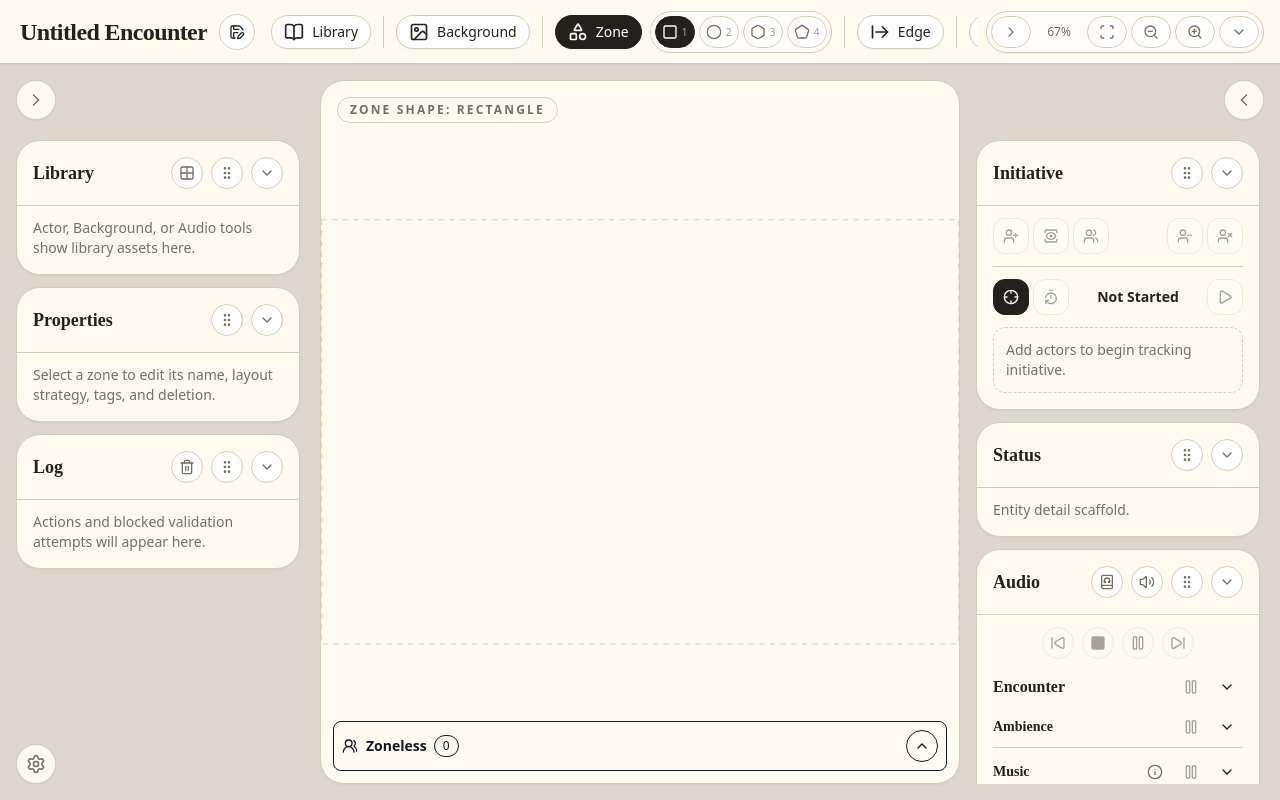
Test: Toolbar motion and navigation › opens the Asset Library modal from the Library toolbar button
Click the button "Library" at [321, 32], box [271,14,371,48]
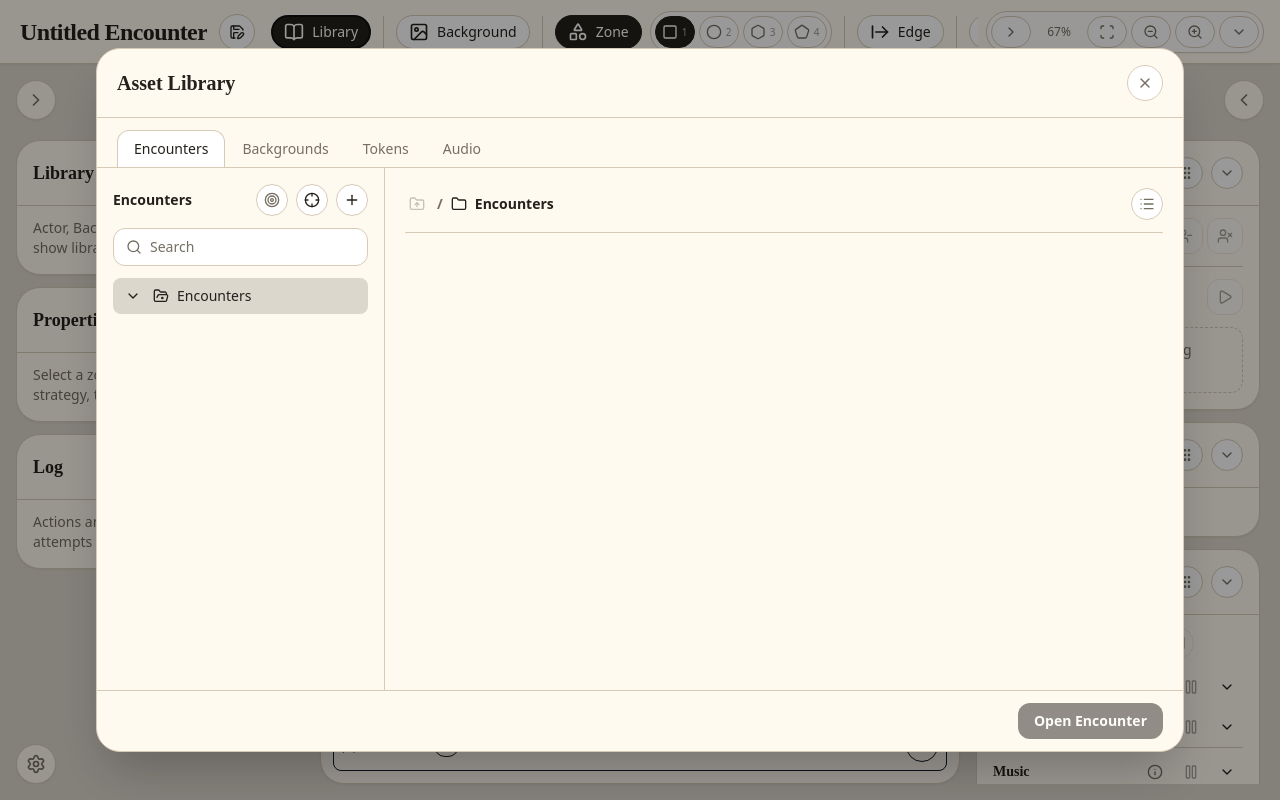
Now the dialog "Asset Library" is shown
Click the button named "Close Asset Library" at [1145, 83], box [1127,65,1163,101]
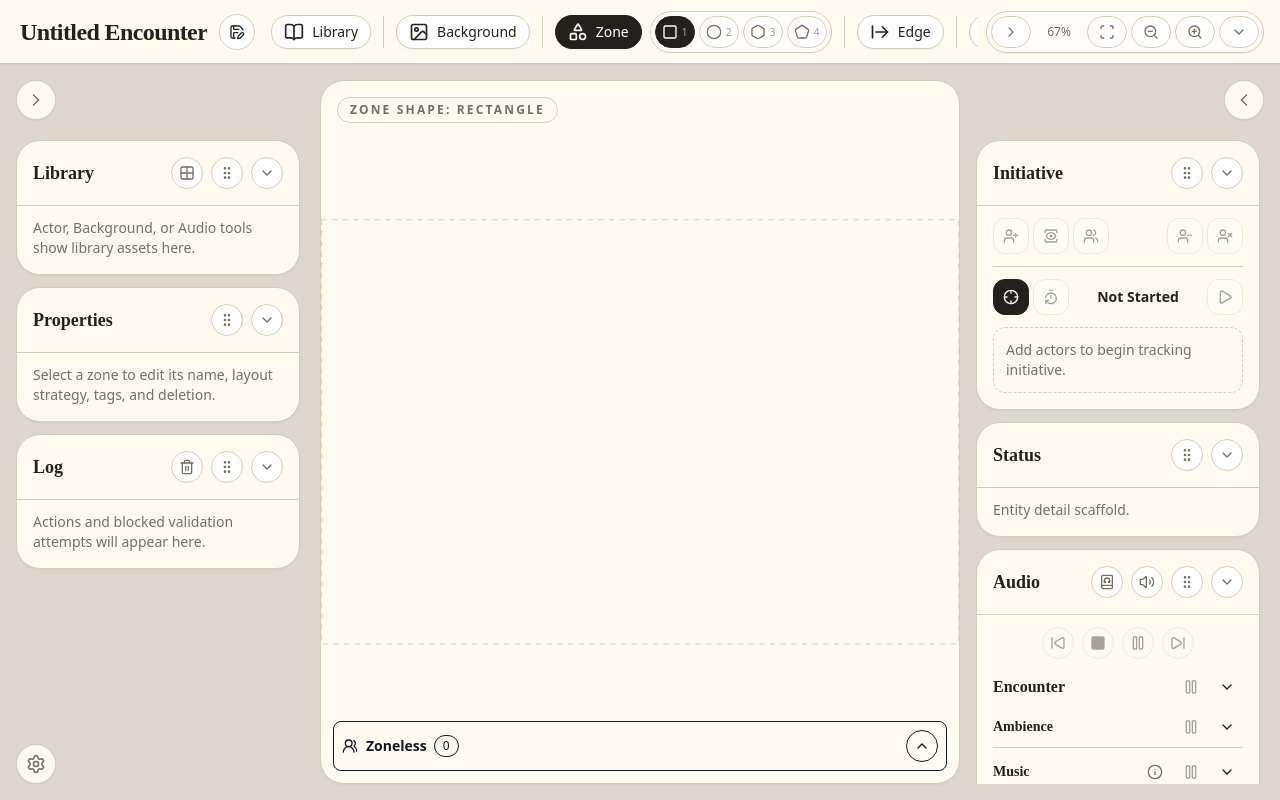
Now the heading "Asset Library" is gone
